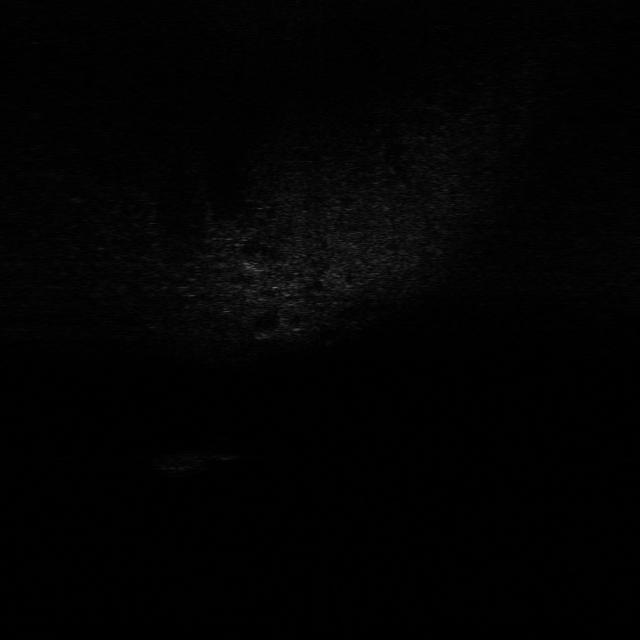ball: (206, 435, 247, 464)
circle cage: (140, 445, 220, 479)
